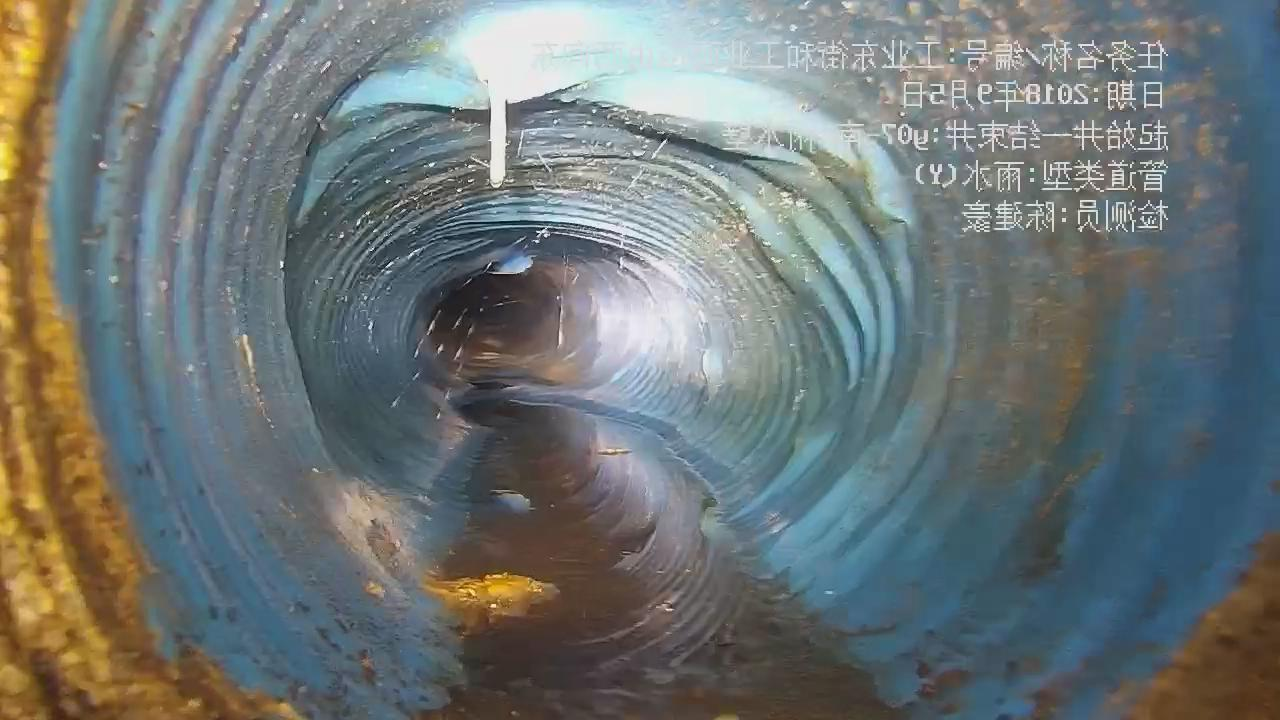BX: (285, 52, 914, 525)
